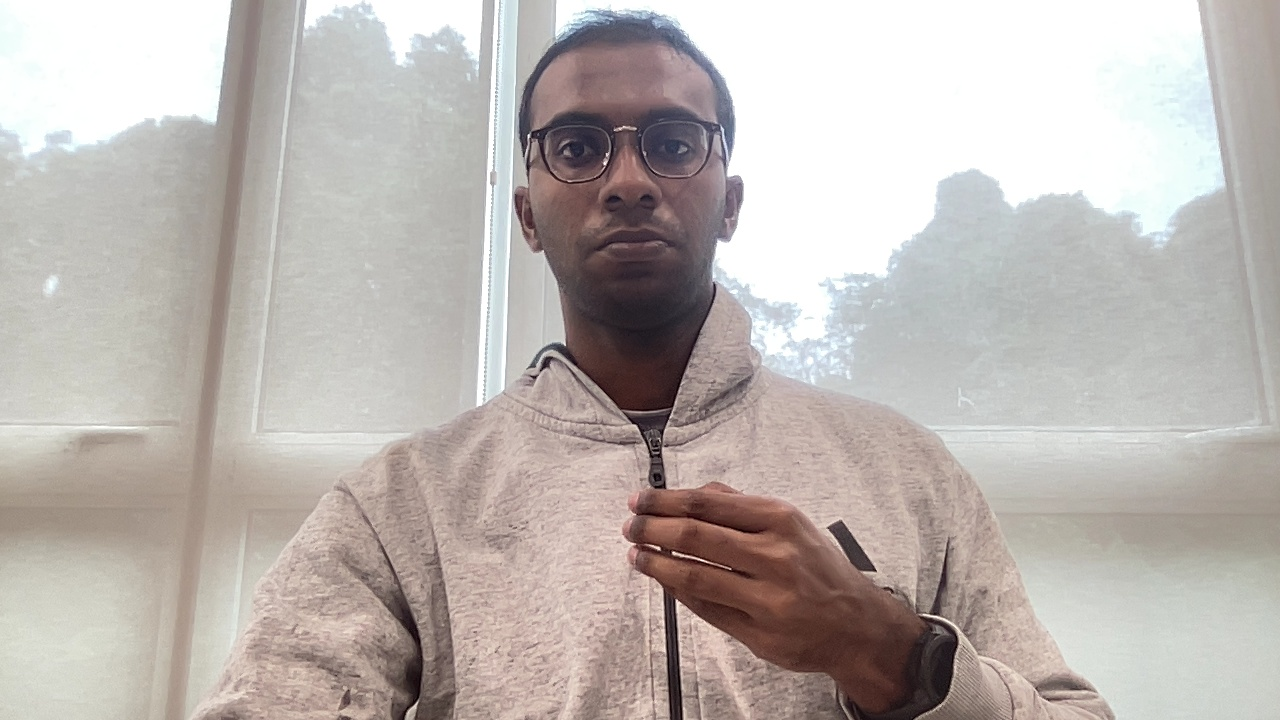drink: (612, 482, 910, 675)
